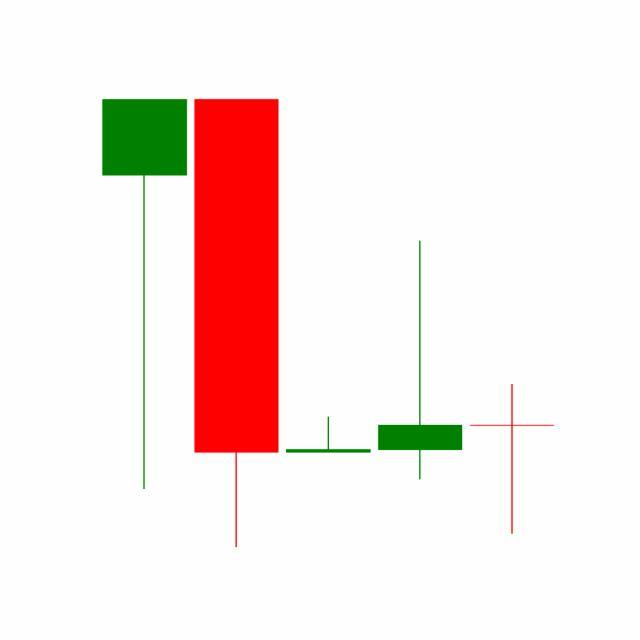Spinning Top: (374, 238, 468, 483)
